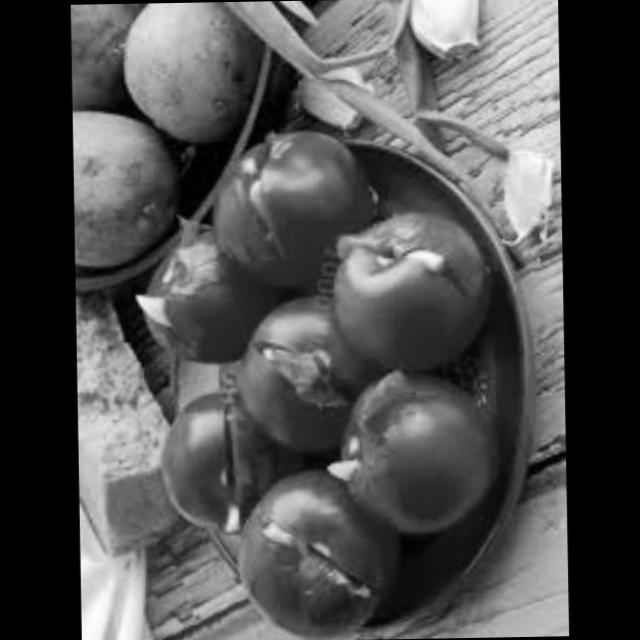ca chua: (320, 196, 500, 370), (332, 373, 507, 540), (203, 123, 370, 295), (240, 473, 410, 634), (152, 379, 308, 550), (242, 296, 386, 452), (134, 210, 264, 372)
cu toi: (491, 136, 562, 248), (401, 0, 489, 74), (294, 60, 370, 134)
khoai tay: (70, 1, 263, 282)
